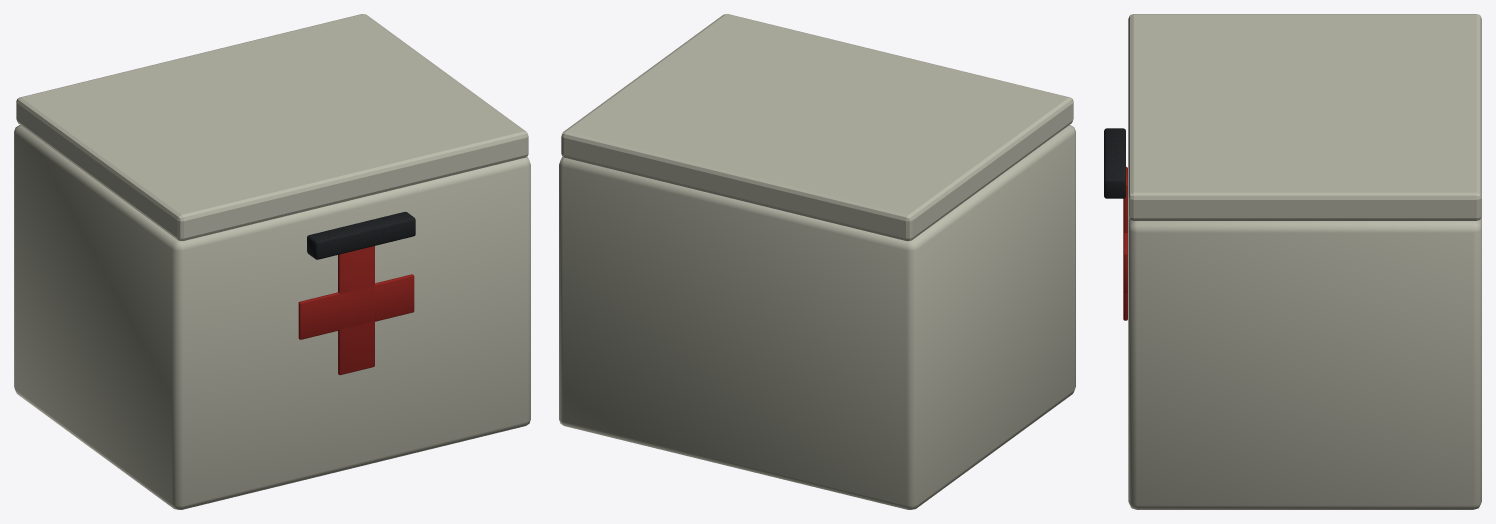
File: prop_med_box.glb
The picture shows the model from 3 angles, left to right: view 1: azimuth 30°, elevation 25°; view 2: azimuth 150°, elevation 25°; view 3: azimuth 270°, elevation 25°; orthographic projection. The views are drawn at different scales.
Visible parts, largest first — view 1: PropMesh, Lid; view 2: PropMesh, Lid; view 3: PropMesh, Lid.
Boxes of the visible parts, left/top/right/bottom form: PropMesh: left=14, top=125, right=530, bottom=509; Lid: left=16, top=14, right=528, bottom=241; PropMesh: left=559, top=125, right=1075, bottom=509; Lid: left=561, top=14, right=1073, bottom=241; PropMesh: left=1104, top=128, right=1481, bottom=509; Lid: left=1128, top=14, right=1481, bottom=220.
Size of the model in its own units: 1 by 0.79 by 0.855.
3 materials, 1 textured.
